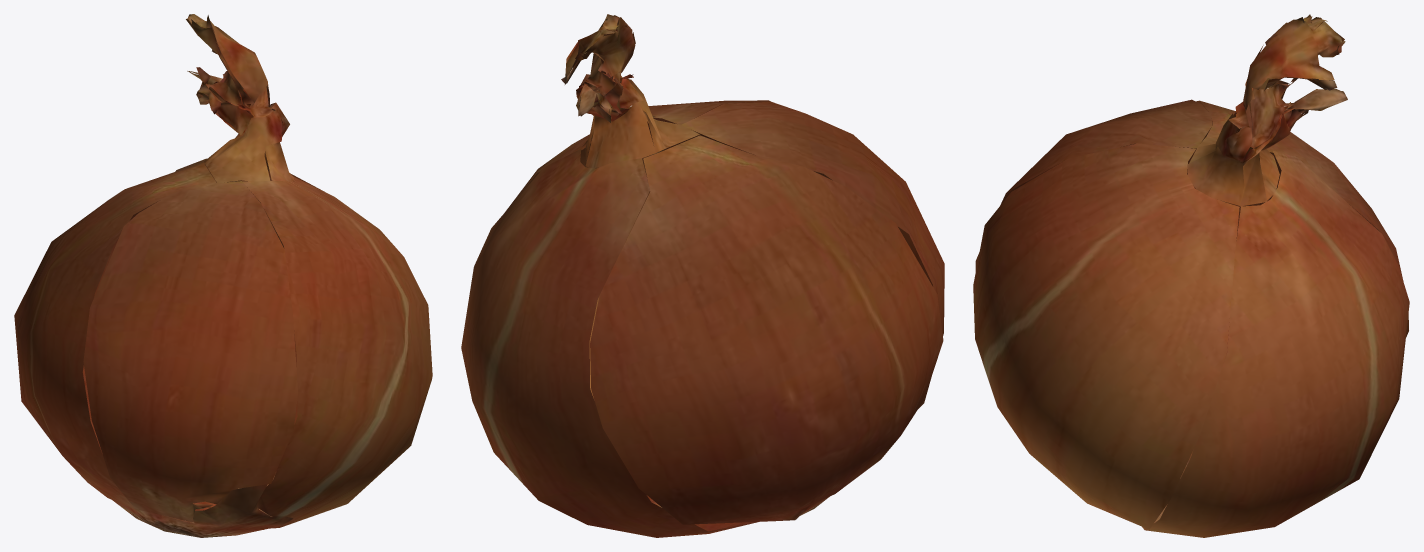
The model's file is onion.glb.
3 views of the same model, side by side, from view 1: azimuth 30°, elevation 25°; view 2: azimuth 150°, elevation 25°; view 3: azimuth 270°, elevation 25° (orthographic). The views are drawn at different scales.
Parts seen in each view (by area): view 1: yellow_onion; view 2: yellow_onion; view 3: yellow_onion.
Part boxes in pixels (left/top/right/bottom): yellow_onion: left=14, top=14, right=432, bottom=537; yellow_onion: left=461, top=14, right=944, bottom=537; yellow_onion: left=973, top=14, right=1409, bottom=537.
Size of the model in its own units: 0.073 by 0.0866 by 0.0689.
1 material, 1 textured.
